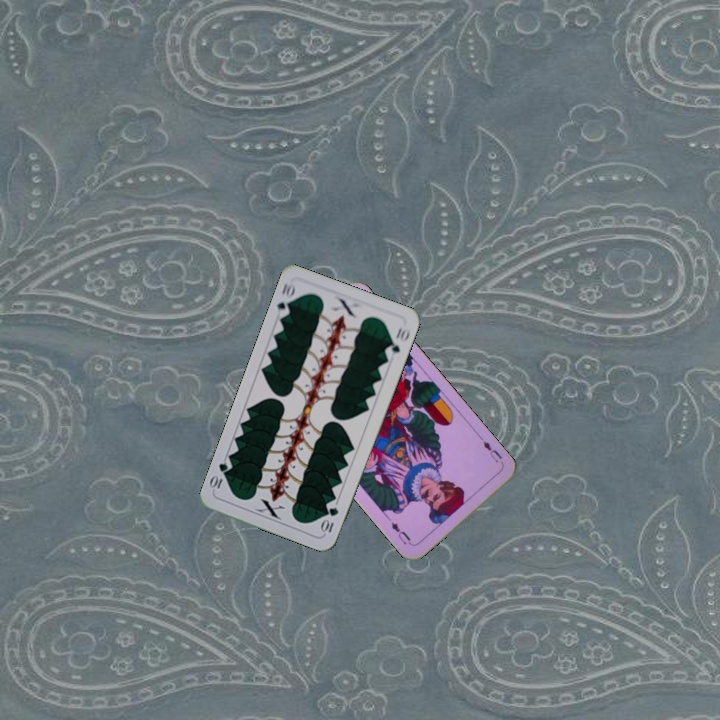EU: (477, 434, 505, 465)
G10: (273, 278, 298, 320), (318, 503, 341, 536)
